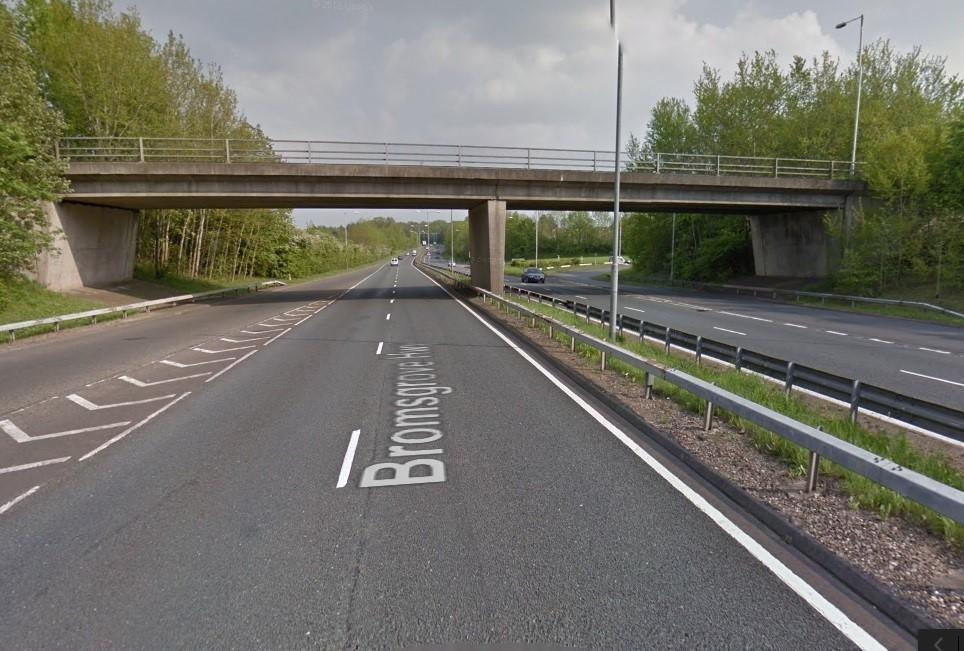bridge: (52, 134, 853, 216)
